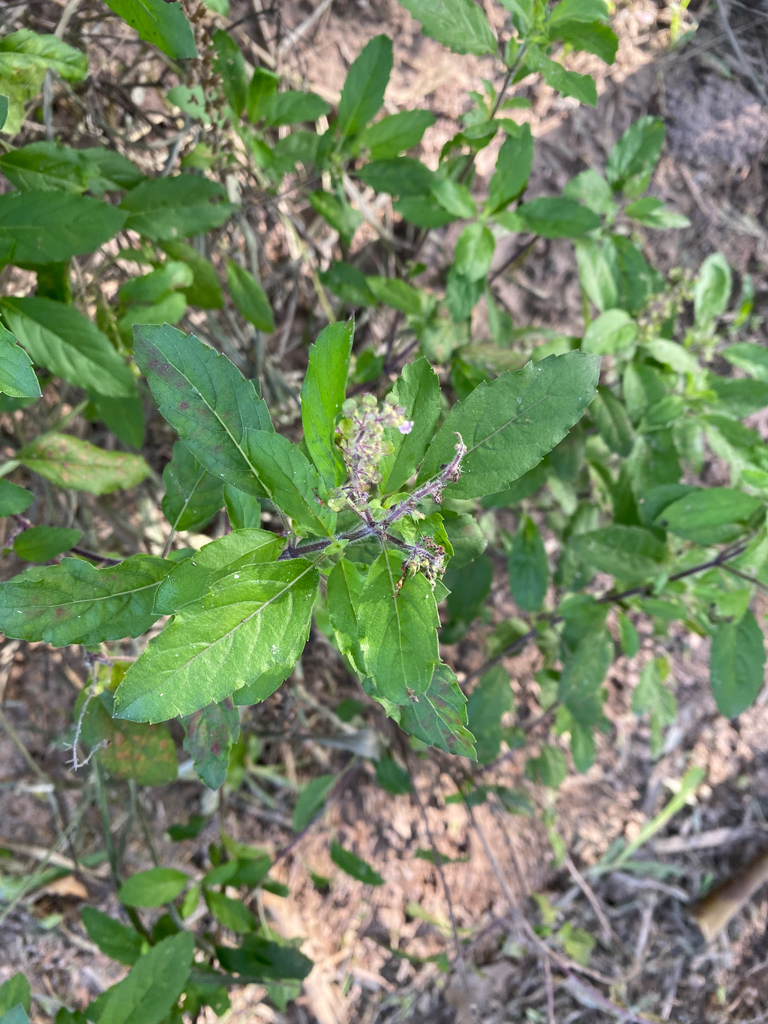Canker: (138, 333, 238, 459), (10, 570, 124, 629), (420, 670, 470, 755), (186, 693, 234, 772), (105, 722, 171, 764)
